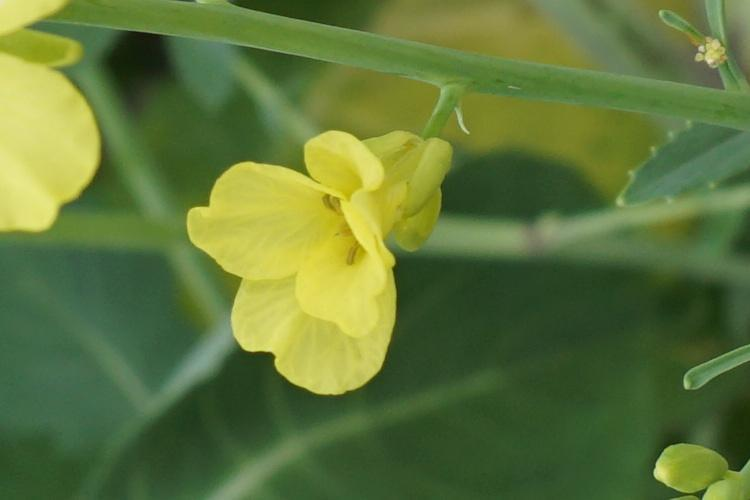bud: (646, 433, 742, 497)
yellow: (209, 103, 457, 396)
